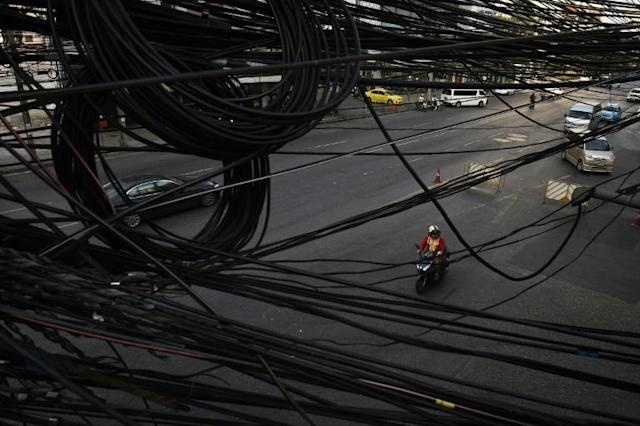wires: (0, 0, 374, 426)
